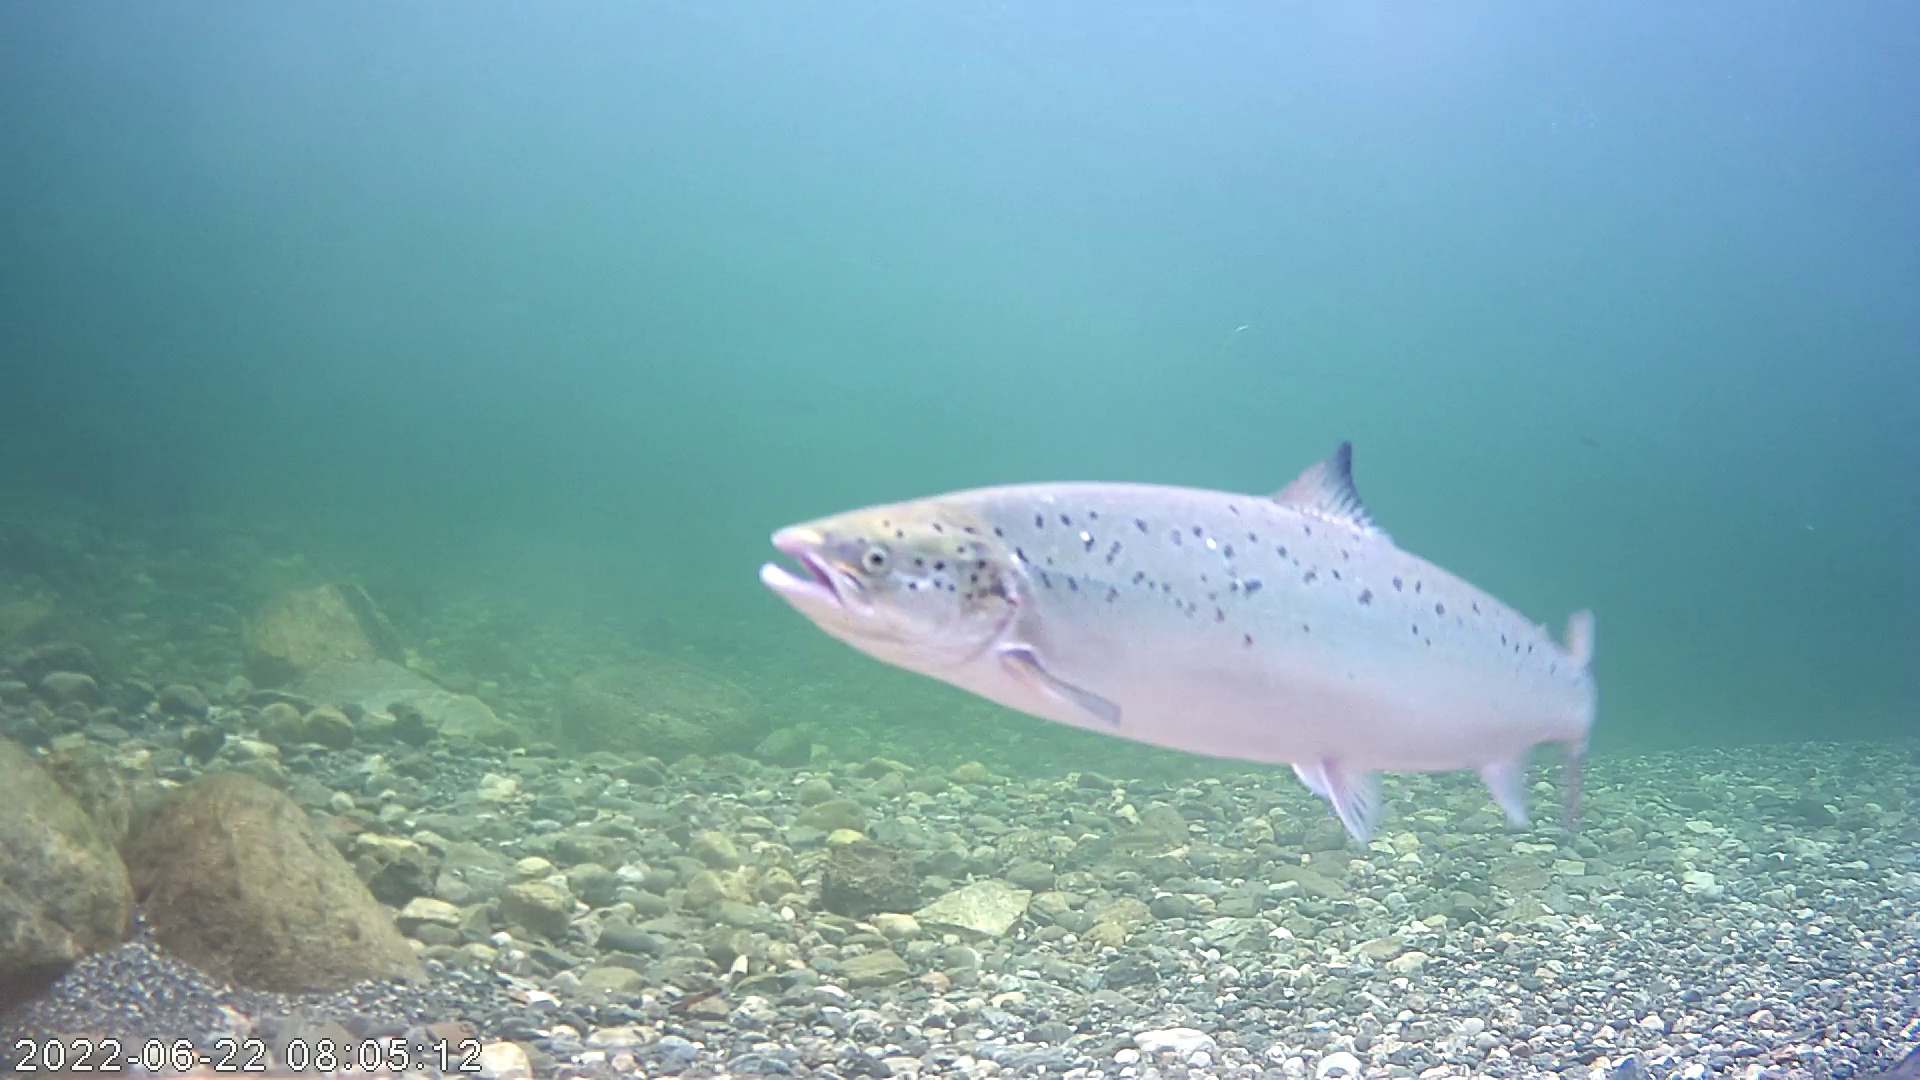salmon: (750, 436, 1604, 848)
